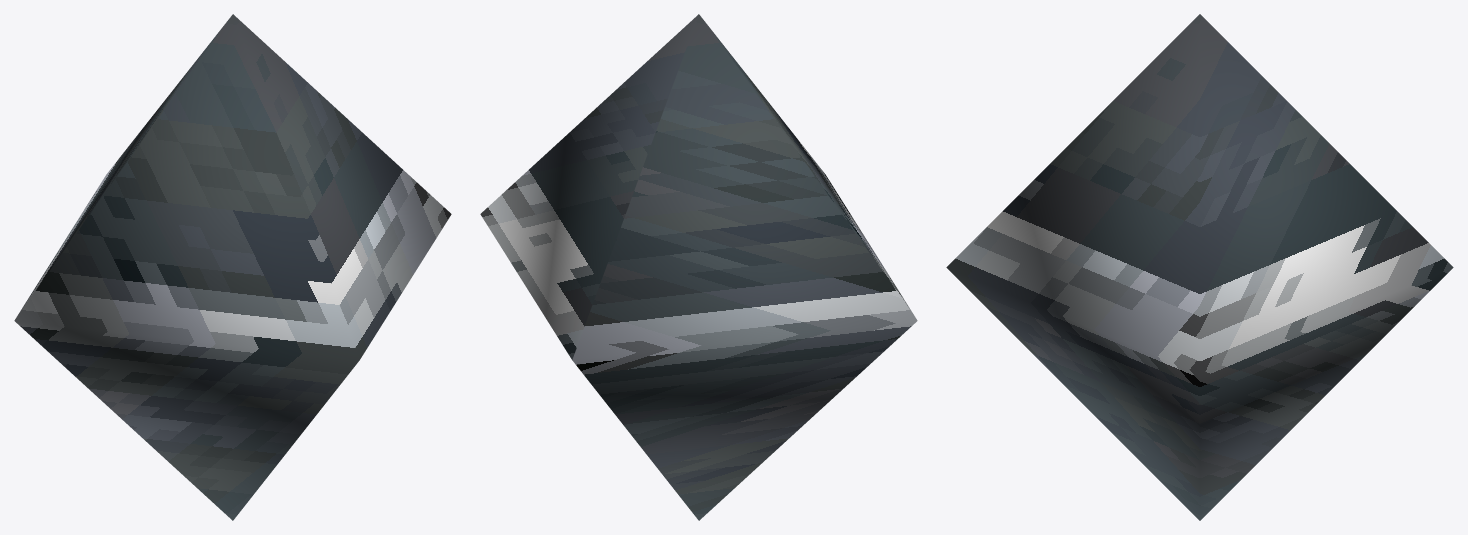
Rendered from wp_grenade_class_a_l2.fbx.
3 renders of one model, left to right at view 1: azimuth 30°, elevation 25°; view 2: azimuth 150°, elevation 25°; view 3: azimuth 270°, elevation 25°, orthographic.
Parts seen in each view (by area): view 1: mesh_node; view 2: mesh_node; view 3: mesh_node.
Part boxes in pixels (left/top/right/bottom): mesh_node: left=14, top=14, right=451, bottom=520; mesh_node: left=480, top=14, right=917, bottom=520; mesh_node: left=946, top=14, right=1453, bottom=520.
Bounding box in the file's own units: 0.1488 × 0.1648 × 0.1493.
